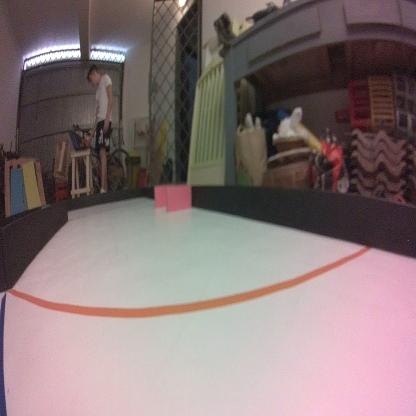magenta: (165, 186, 191, 212), (154, 186, 175, 204)
